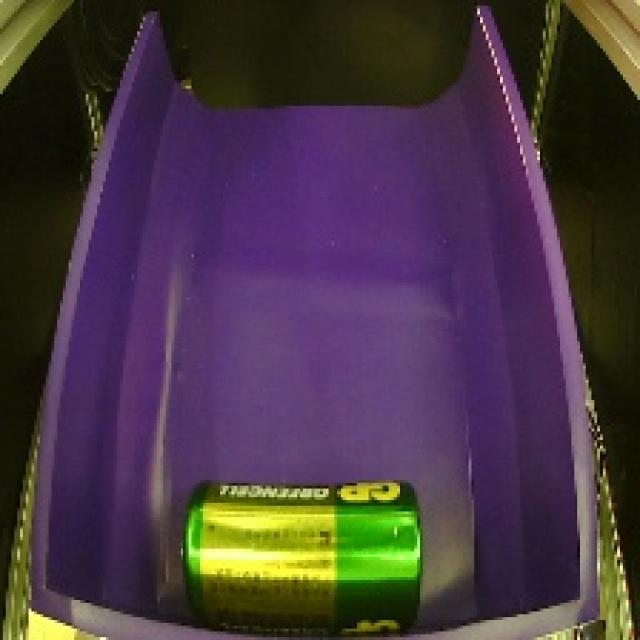battery: (163, 469, 439, 640)
